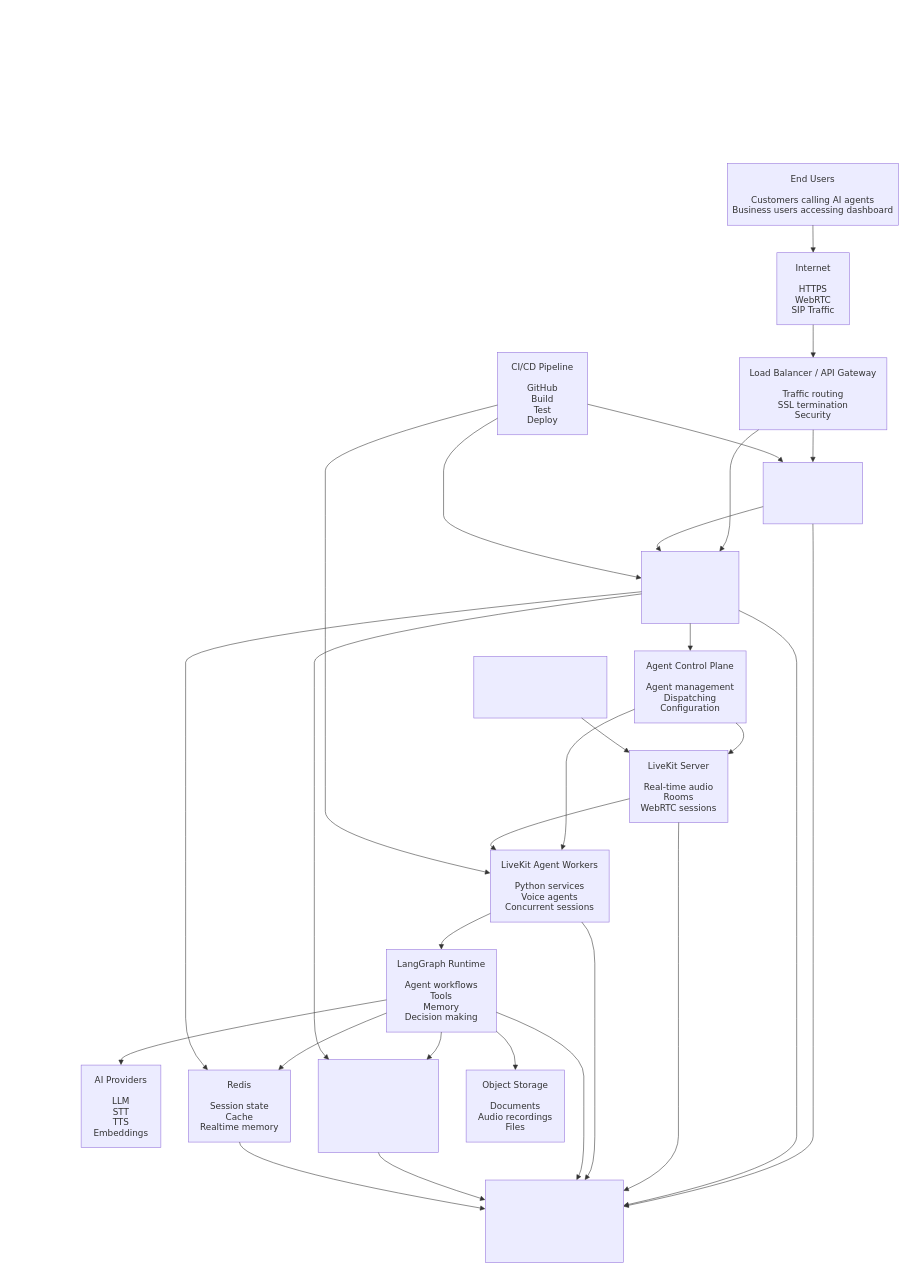
Image size: 908x1272. Some labels were removed from this diagram. The centre of each missing label's shape, as x and y in pixels:
FastAPI Backend REST APIs Authentication Business logic: the point at 690,587
Monitoring & Observability Logs Metrics Tracing Alerts: the point at 554,1221
Next.js Frontend SaaS Dashboard User interface: the point at 813,493
PostgreSQL + pgvector Users Tenants Agents Knowledge vectors Logs: the point at 378,1106
Twilio SIP Phone network Inbound / Outbound calls: the point at 540,687
